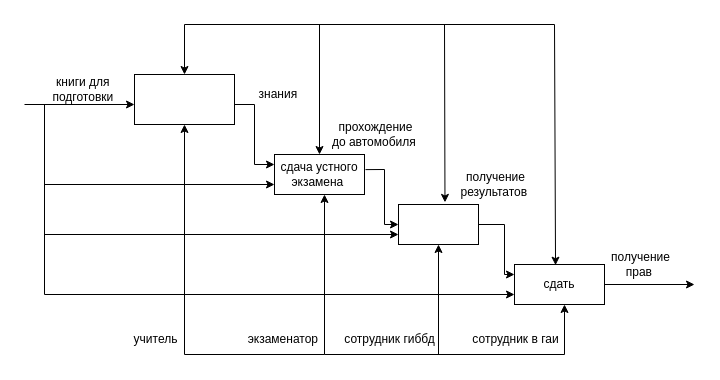
This 720x380 diagram has some shape labels left out. Here are the shapes that lost their labels. From the top down, the centre of each, then its label:
At (x=184, y=99): "учеба".
At (x=438, y=224): "сдача на автомобиле".
